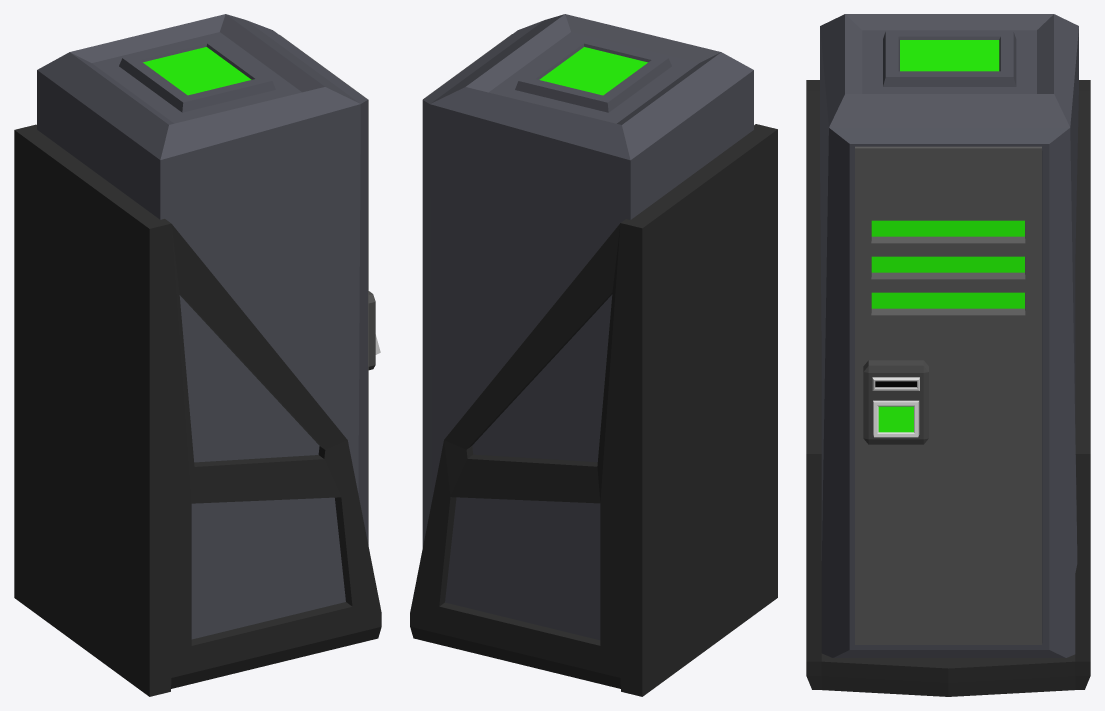
The model's file is LootLocker.glb.
The picture shows the model from 3 angles, left to right: view 1: azimuth 30°, elevation 25°; view 2: azimuth 150°, elevation 25°; view 3: azimuth 270°, elevation 25°; orthographic projection. The views are drawn at different scales.
Parts seen in each view (by area): view 1: LockerHolder, LockerBody, KeyPad; view 2: LockerHolder, LockerBody; view 3: Door, LockerBody, LockerHolder, KeyPad.
Part boxes in pixels (x1,y1,x2,y2): LockerHolder: (14, 124, 381, 696); LockerBody: (37, 14, 367, 639); KeyPad: (368, 291, 380, 370); LockerHolder: (410, 124, 777, 696); LockerBody: (422, 14, 753, 640); Door: (855, 146, 1041, 644); LockerBody: (820, 14, 1078, 657); LockerHolder: (806, 80, 1090, 696); KeyPad: (863, 360, 928, 444).
Bounding box in the file's own units: 3.21 × 6.39 × 2.85.
